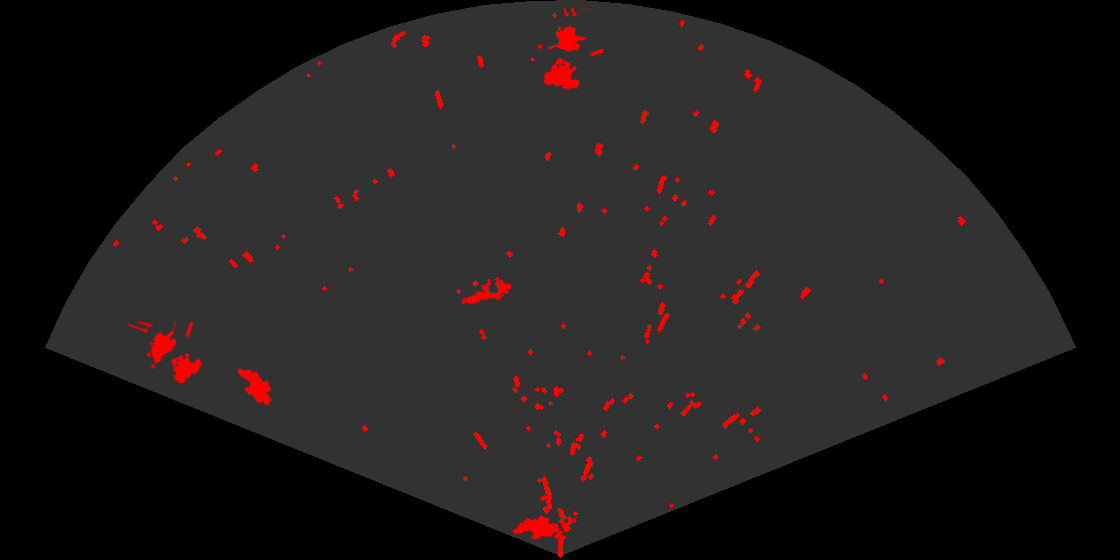AUV: (236, 367, 273, 407), (511, 514, 561, 541)
cage: (536, 8, 603, 91), (128, 322, 204, 385)
frogman: (460, 277, 511, 306)
